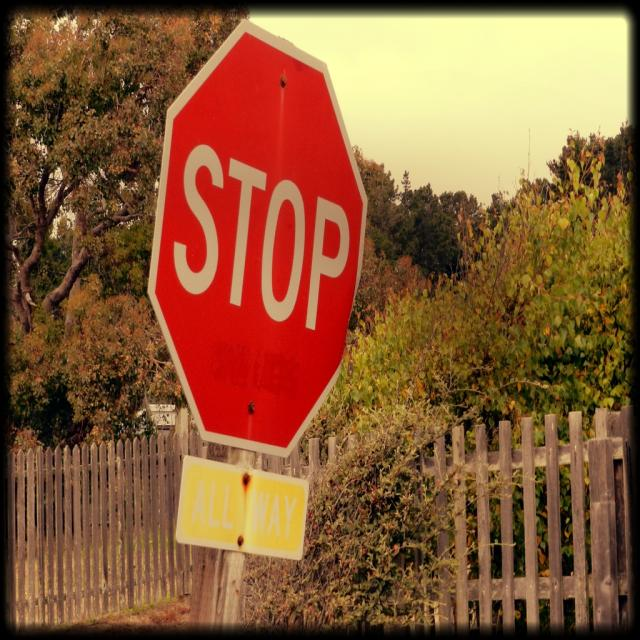Stop-sign: (146, 17, 369, 460)
